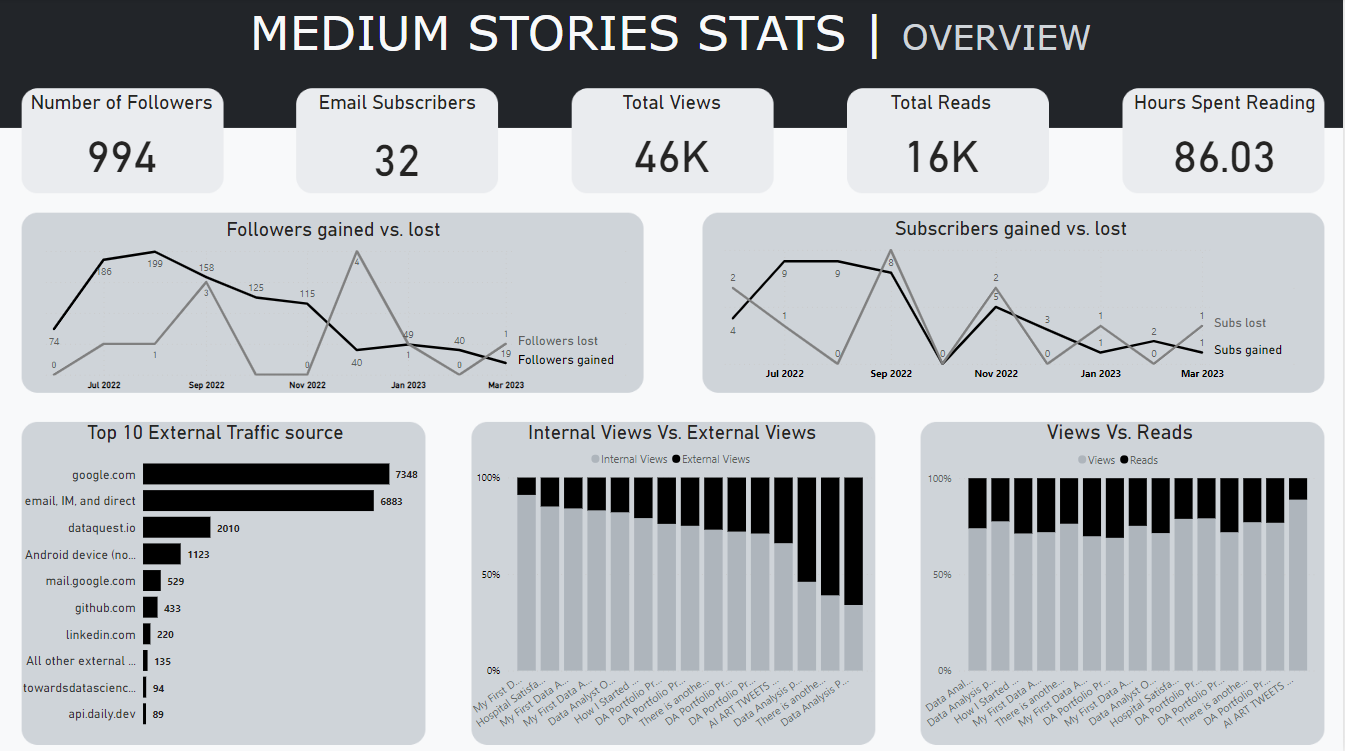

What the dashboard file says about the page in this screenshot:
{"tool":"powerbi","page":{"name":"Medium Stats Dashboard","canvas":[1664,936],"ordinal":0},"visuals":[{"type":"textbox","box":[0,0,1663.3,103.3],"z":0},{"type":"lineChart","title":"Followers gained vs. lost","fields":{"Category":["Table2.MM-YYYY.Variation.Date Hierarchy.Year","Table2.MM-YYYY.Variation.Date Hierarchy.Quarter","Table2.MM-YYYY.Variation.Date Hierarchy.Month","Table2.MM-YYYY.Variation.Date Hierarchy.Day"],"Y":["Sum(Table2.followers_gained)"],"Y2":["Sum(Table2.followers_lost)"]},"box":[23.2,272.3,781.3,221.2],"z":1000},{"type":"clusteredBarChart","title":"Top 10 External Traffic source","fields":{"Category":["Table3.Traffic Source"],"Y":["Sum(Table3.# Of referrals)"]},"box":[12.4,522.9,510.5,394.5],"z":2000},{"type":"card","title":"Total Views","fields":{"Values":["Sum(Table1.Total Views)"]},"box":[717.9,114.5,229,122.2],"z":3000},{"type":"card","title":"Number of Followers","fields":{"Values":["Table2.Num Followers"]},"box":[12.4,114.5,278.5,123.8],"z":4000},{"type":"card","title":"Email Subscribers","fields":{"Values":["Table2.Nums Subs"]},"box":[346.6,114.5,292.4,133.1],"z":5000},{"type":"card","title":"Total Reads","fields":{"Values":["Sum(Table1.Reads)"]},"box":[1045.8,114.5,239.8,122.2],"z":6000},{"type":"card","title":"Hours Spent Reading","fields":{"Values":["Table1.Hours Total"]},"box":[1386.2,114.5,261.5,123.8],"z":7000},{"type":"lineChart","title":"Subscribers gained vs. lost","fields":{"Category":["Table2.MM-YYYY.Variation.Date Hierarchy.Year","Table2.MM-YYYY.Variation.Date Hierarchy.Quarter","Table2.MM-YYYY.Variation.Date Hierarchy.Month","Table2.MM-YYYY.Variation.Date Hierarchy.Day"],"Y":["Sum(Table2.subscribers_gained)"],"Y2":["Sum(Table2.subscribers_lost)"]},"box":[869.5,270.7,765.8,212],"z":8000},{"type":"hundredPercentStackedColumnChart","title":"Internal Views Vs. External Views","fields":{"Category":["Table1.Story Title"],"Y":["Sum(Table1.Internal Views %)","Sum(Table1.External Views %)"]},"box":[580.2,522.9,505.9,394.5],"z":9000},{"type":"hundredPercentStackedColumnChart","title":"Views Vs. Reads","fields":{"Category":["Table1.Story Title"],"Y":["Sum(Table1.Total Views)","Sum(Table1.Reads)"]},"box":[1138.7,522.9,496.6,394.5],"z":10000}]}

Visuals, with their boxes in screenshot pixels (x1, y1, x2, y2), scaled from the page's 1664x936 canvas onto the 1345x751 screenshot:
textbox: (left=0, top=0, right=1344, bottom=83)
"Followers gained vs. lost" lineChart: (left=19, top=218, right=650, bottom=396)
"Top 10 External Traffic source" clusteredBarChart: (left=10, top=420, right=423, bottom=736)
"Total Views" card: (left=580, top=92, right=765, bottom=190)
"Number of Followers" card: (left=10, top=92, right=235, bottom=191)
"Email Subscribers" card: (left=280, top=92, right=516, bottom=199)
"Total Reads" card: (left=845, top=92, right=1039, bottom=190)
"Hours Spent Reading" card: (left=1120, top=92, right=1332, bottom=191)
"Subscribers gained vs. lost" lineChart: (left=703, top=217, right=1322, bottom=387)
"Internal Views Vs. External Views" hundredPercentStackedColumnChart: (left=469, top=420, right=878, bottom=736)
"Views Vs. Reads" hundredPercentStackedColumnChart: (left=920, top=420, right=1322, bottom=736)
